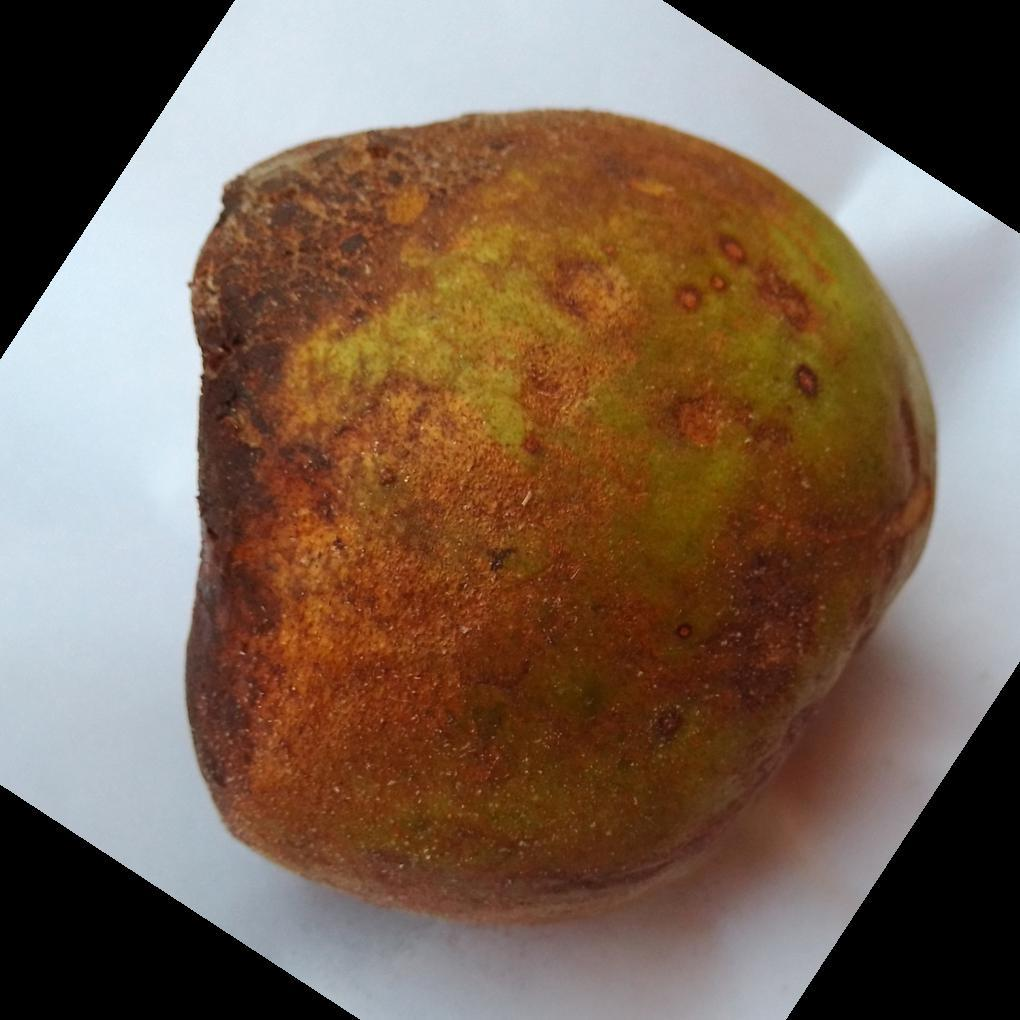FreshOrange: (183, 109, 939, 930)
